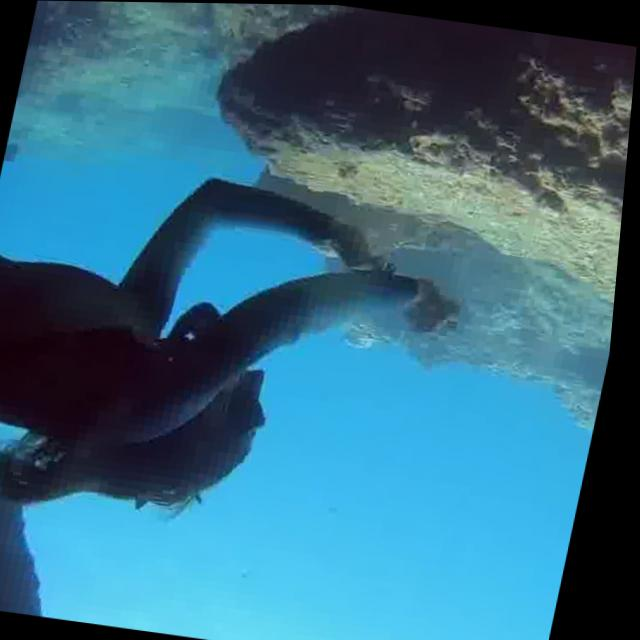human: (0, 0, 528, 582)
